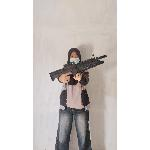Senapan: (44, 52, 114, 84)
